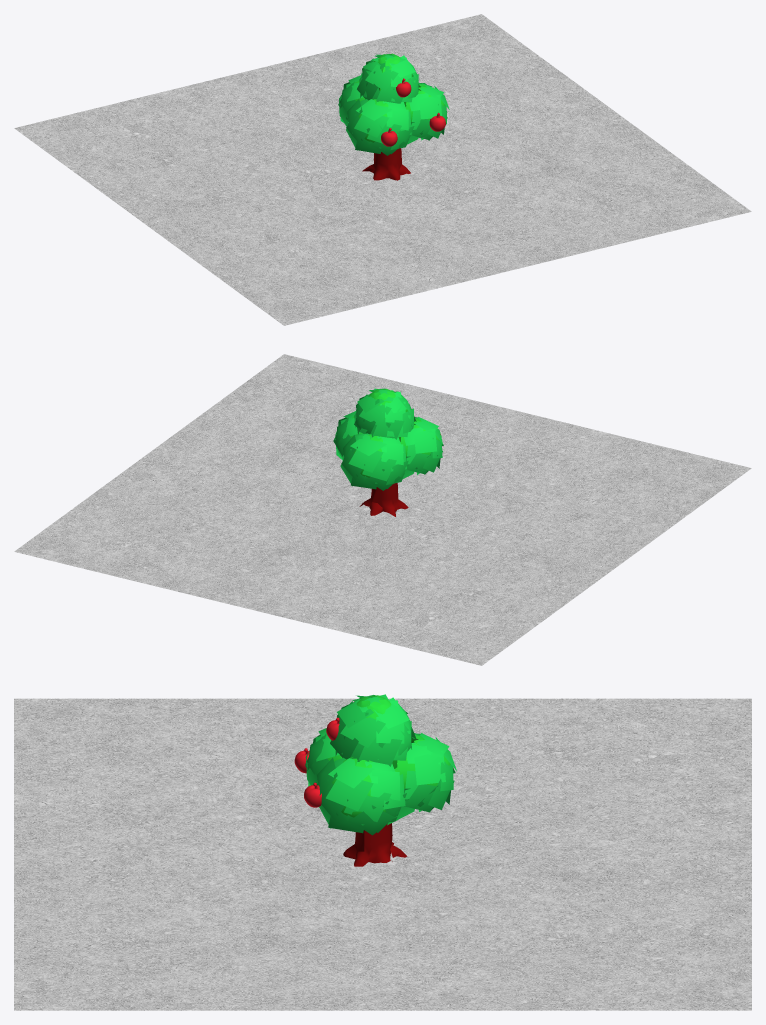
The model's file is tree2.glb.
The picture shows the model from 3 angles, top to bottom: view 1: azimuth 30°, elevation 25°; view 2: azimuth 150°, elevation 25°; view 3: azimuth 270°, elevation 25°; orthographic projection. The views are drawn at different scales.
Parts seen in each view (by area): view 1: Plane, node_9e5e0f8a_a77c_411d_97fd_598c75edc567_mesh0, node_6ea13812_e42f_4a88_bd19_b682b1e5bbb5_mesh0, node_08932d94_4d54_4779_8b4d_90905b2e91da_mesh0, node_bcd76bc4_4adc_4326_87a8_8bec474cbaee_mesh0; view 2: Plane, node_9e5e0f8a_a77c_411d_97fd_598c75edc567_mesh0, node_6ea13812_e42f_4a88_bd19_b682b1e5bbb5_mesh0, node_bcd76bc4_4adc_4326_87a8_8bec474cbaee_mesh0; view 3: Plane, node_9e5e0f8a_a77c_411d_97fd_598c75edc567_mesh0, node_6ea13812_e42f_4a88_bd19_b682b1e5bbb5_mesh0, node_bcd76bc4_4adc_4326_87a8_8bec474cbaee_mesh0, node_08932d94_4d54_4779_8b4d_90905b2e91da_mesh0.
Part boxes in pixels (x1,y1,x2,y2): Plane: (14,14,751,325); node_9e5e0f8a_a77c_411d_97fd_598c75edc567_mesh0: (338,54,449,155); node_6ea13812_e42f_4a88_bd19_b682b1e5bbb5_mesh0: (362,148,410,180); node_08932d94_4d54_4779_8b4d_90905b2e91da_mesh0: (381,78,445,146); node_bcd76bc4_4adc_4326_87a8_8bec474cbaee_mesh0: (354,53,445,142); Plane: (14,354,751,665); node_9e5e0f8a_a77c_411d_97fd_598c75edc567_mesh0: (333,388,443,490); node_6ea13812_e42f_4a88_bd19_b682b1e5bbb5_mesh0: (359,483,408,516); node_bcd76bc4_4adc_4326_87a8_8bec474cbaee_mesh0: (346,388,439,477); Plane: (14,698,751,1010); node_9e5e0f8a_a77c_411d_97fd_598c75edc567_mesh0: (305,694,456,835); node_6ea13812_e42f_4a88_bd19_b682b1e5bbb5_mesh0: (343,823,407,866); node_bcd76bc4_4adc_4326_87a8_8bec474cbaee_mesh0: (326,695,450,817); node_08932d94_4d54_4779_8b4d_90905b2e91da_mesh0: (294,717,339,807).
Bounding box in the file's own units: 423 × 104 × 423.
Materials: 5 (1 with a texture image).
